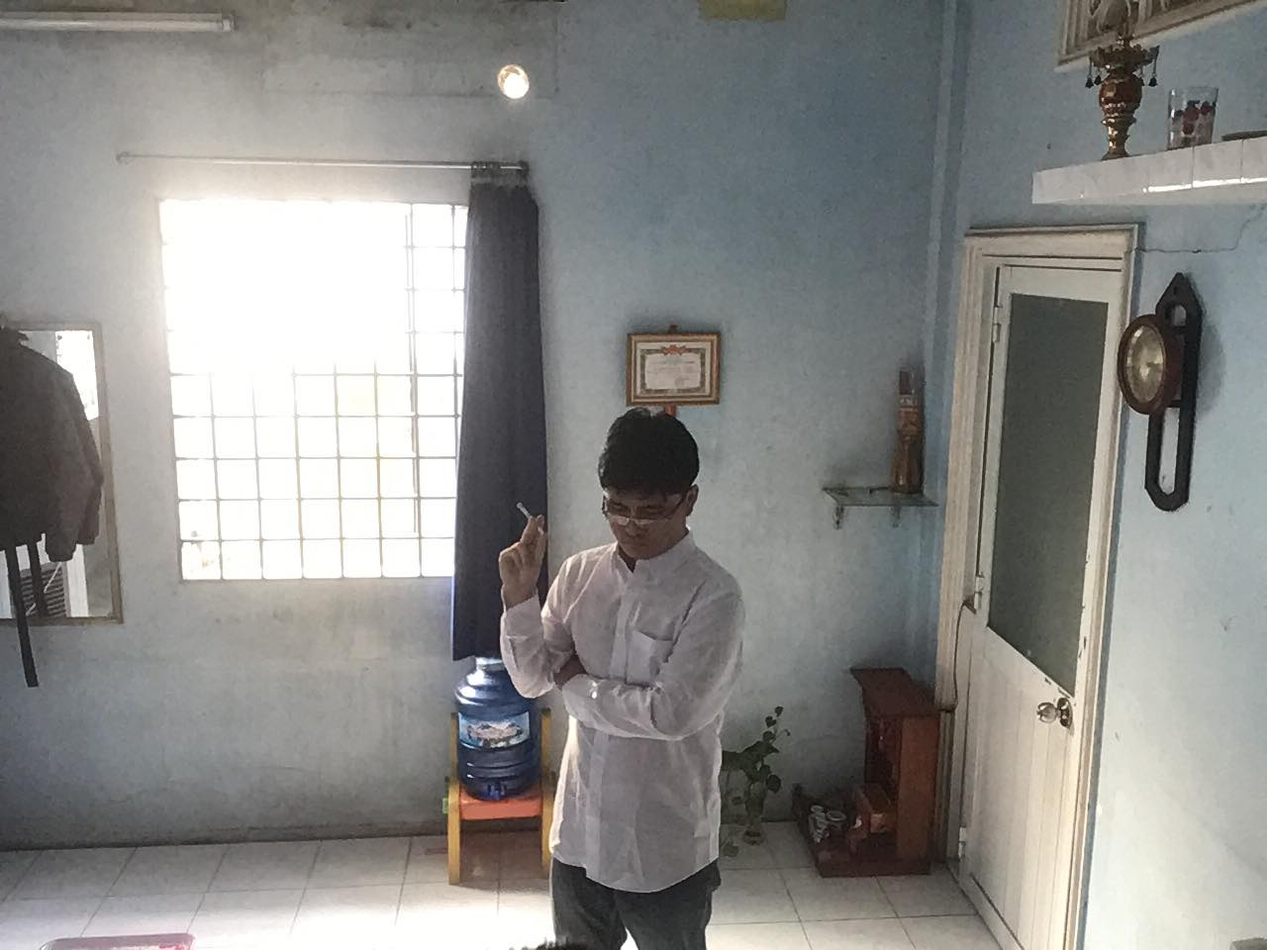cigarette: (518, 499, 550, 537)
person: (498, 398, 763, 950)
